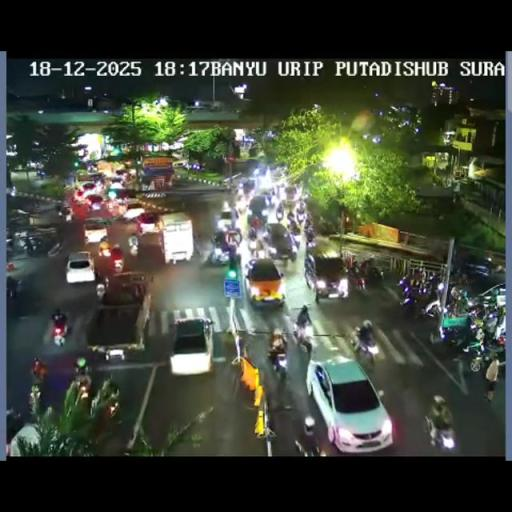Car: (306, 357, 390, 452), (84, 284, 154, 360), (140, 211, 193, 264), (168, 316, 214, 374), (306, 253, 348, 301), (244, 257, 285, 306), (65, 250, 94, 284), (458, 254, 492, 278), (475, 281, 506, 307), (247, 194, 272, 223), (83, 218, 107, 244), (122, 200, 147, 222), (108, 187, 133, 206), (78, 182, 100, 198), (238, 177, 256, 196), (218, 209, 234, 230), (283, 185, 299, 203)
Motorcycle: (462, 327, 504, 373), (90, 384, 119, 438), (424, 406, 456, 451), (397, 277, 433, 316), (352, 329, 378, 366), (440, 288, 470, 319), (70, 360, 92, 399), (266, 340, 288, 375), (293, 322, 313, 356), (294, 434, 324, 456), (347, 263, 368, 293), (208, 238, 230, 265), (6, 407, 24, 439), (28, 380, 43, 414), (50, 318, 68, 346), (466, 302, 488, 324), (4, 233, 26, 255), (483, 310, 500, 336), (22, 234, 42, 256), (6, 275, 21, 303), (31, 358, 48, 382), (367, 265, 384, 286), (286, 231, 300, 256), (224, 228, 242, 246), (235, 197, 249, 215), (95, 279, 106, 301), (248, 222, 260, 242), (304, 214, 314, 238), (190, 234, 200, 258), (294, 205, 306, 224), (98, 239, 110, 258), (287, 216, 299, 234), (306, 232, 317, 250), (274, 183, 285, 201), (344, 255, 355, 270), (275, 202, 284, 220), (113, 257, 123, 273), (458, 270, 468, 286), (227, 180, 237, 194), (129, 241, 138, 256), (136, 222, 144, 236), (35, 169, 46, 178), (65, 210, 73, 222)
